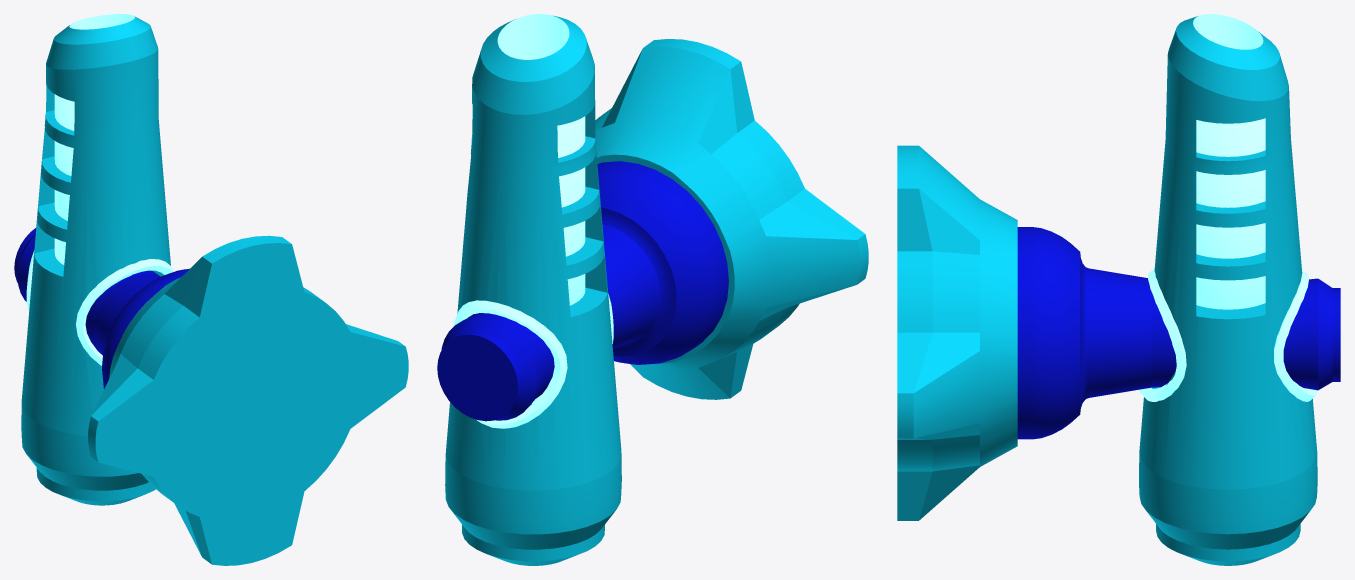
File: CryoCanon0.fbx
The picture shows the model from 3 angles, left to right: view 1: azimuth 30°, elevation 25°; view 2: azimuth 150°, elevation 25°; view 3: azimuth 270°, elevation 25°; orthographic projection. The views are drawn at different scales.
Parts seen in each view (by area): view 1: JA, Cylinder, Cylinder.001, Cylinder.003, Cylinder_Curve.001; view 2: Cylinder, JA, Cylinder.001, Cylinder_Curve, Cylinder.003; view 3: Cylinder, JA, Cylinder.001, Cylinder.003, Cylinder_Curve.001, Cylinder_Curve.
Boxes of the visible parts, box(x1,y1,x2,y2) form: JA: box(88, 235, 408, 565); Cylinder: box(21, 14, 170, 505); Cylinder.001: box(14, 228, 189, 388); Cylinder.003: box(54, 94, 74, 264); Cylinder_Curve.001: box(76, 259, 173, 365); Cylinder: box(445, 14, 621, 565); JA: box(595, 39, 868, 399); Cylinder.001: box(437, 161, 728, 421); Cylinder_Curve: box(453, 300, 567, 428); Cylinder.003: box(531, 116, 585, 403); Cylinder: box(1139, 14, 1317, 565); JA: box(897, 145, 1017, 520); Cylinder.001: box(1017, 227, 1340, 439); Cylinder.003: box(1196, 118, 1265, 309); Cylinder_Curve.001: box(1139, 269, 1186, 401); Cylinder_Curve: box(1274, 269, 1318, 401).
Size of the model in its own units: 1669 by 2423 by 1854.
